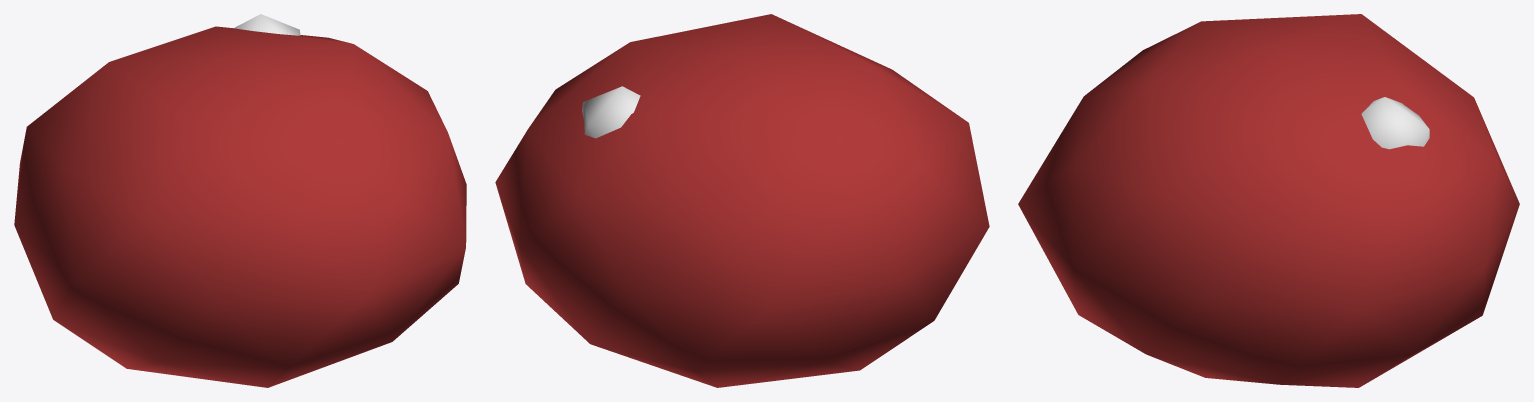
Rendered from tissue_sample.glb.
3 renders of one model, left to right at view 1: azimuth 30°, elevation 25°; view 2: azimuth 150°, elevation 25°; view 3: azimuth 270°, elevation 25°, orthographic. The views are drawn at different scales.
Visible parts, largest first — view 1: tissue_sample_v0; view 2: tissue_sample_v0; view 3: tissue_sample_v0.
Boxes of the visible parts, x1,y1,x2,y2 form: tissue_sample_v0: (14, 14, 466, 387); tissue_sample_v0: (495, 14, 989, 387); tissue_sample_v0: (1018, 14, 1519, 387).
Bounding box in the file's own units: 0.2359 × 0.165 × 0.2389.
